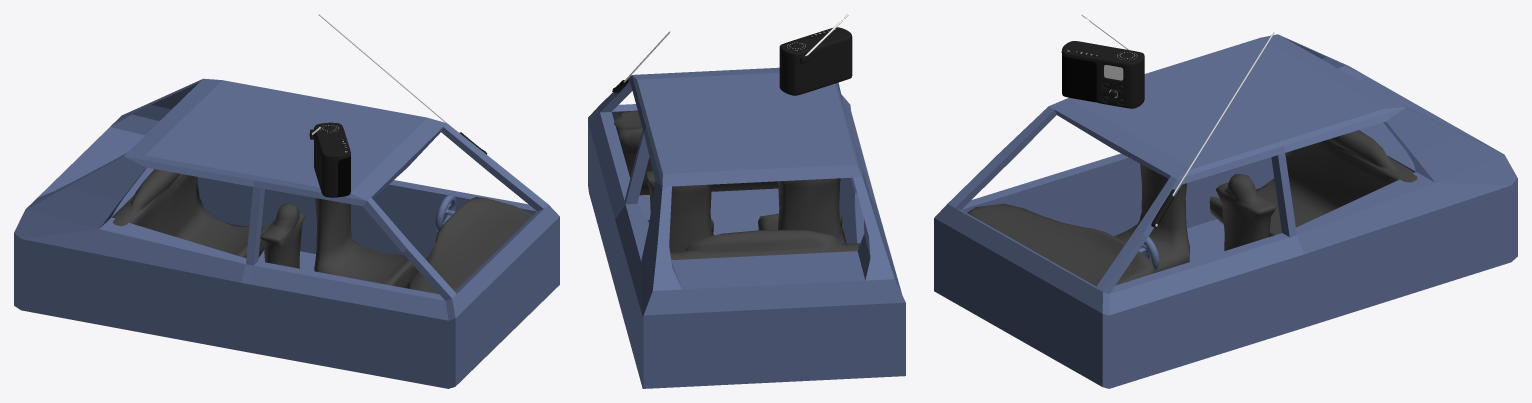
Rendered from whipsReal.gltf.
The picture shows the model from 3 angles, left to right: view 1: azimuth 30°, elevation 25°; view 2: azimuth 150°, elevation 25°; view 3: azimuth 270°, elevation 25°; orthographic projection. The views are drawn at different scales.
Parts seen in each view (by area): view 1: Plane.002, Cube.031, Cube.034, Cube.033, Cube.030, Cube.032, Torus.001; view 2: Plane.002, Cube.030, Cube.031, Cube.032, Cube.033, Cube.034; view 3: Plane.002, Cube.031, Cube.034, Cube.030, Cube.032, Cube.033.
Part boxes in pixels (x1,y1,x2,y2): Plane.002: [14, 78, 559, 388]; Cube.031: [112, 169, 270, 257]; Cube.034: [407, 197, 532, 294]; Cube.033: [314, 198, 421, 288]; Cube.030: [309, 122, 350, 197]; Cube.032: [260, 203, 305, 268]; Torus.001: [435, 194, 456, 231]; Plane.002: [588, 67, 905, 388]; Cube.030: [779, 27, 852, 95]; Cube.031: [670, 230, 860, 260]; Cube.032: [758, 178, 846, 243]; Cube.033: [645, 170, 713, 252]; Cube.034: [614, 111, 778, 195]; Plane.002: [934, 34, 1517, 388]; Cube.031: [1209, 130, 1417, 236]; Cube.034: [967, 203, 1155, 286]; Cube.030: [1061, 41, 1144, 108]; Cube.032: [1114, 163, 1189, 272]; Cube.033: [1216, 174, 1276, 250].
Bounding box in the file's own units: 15.29 × 8.76 × 16.68.
